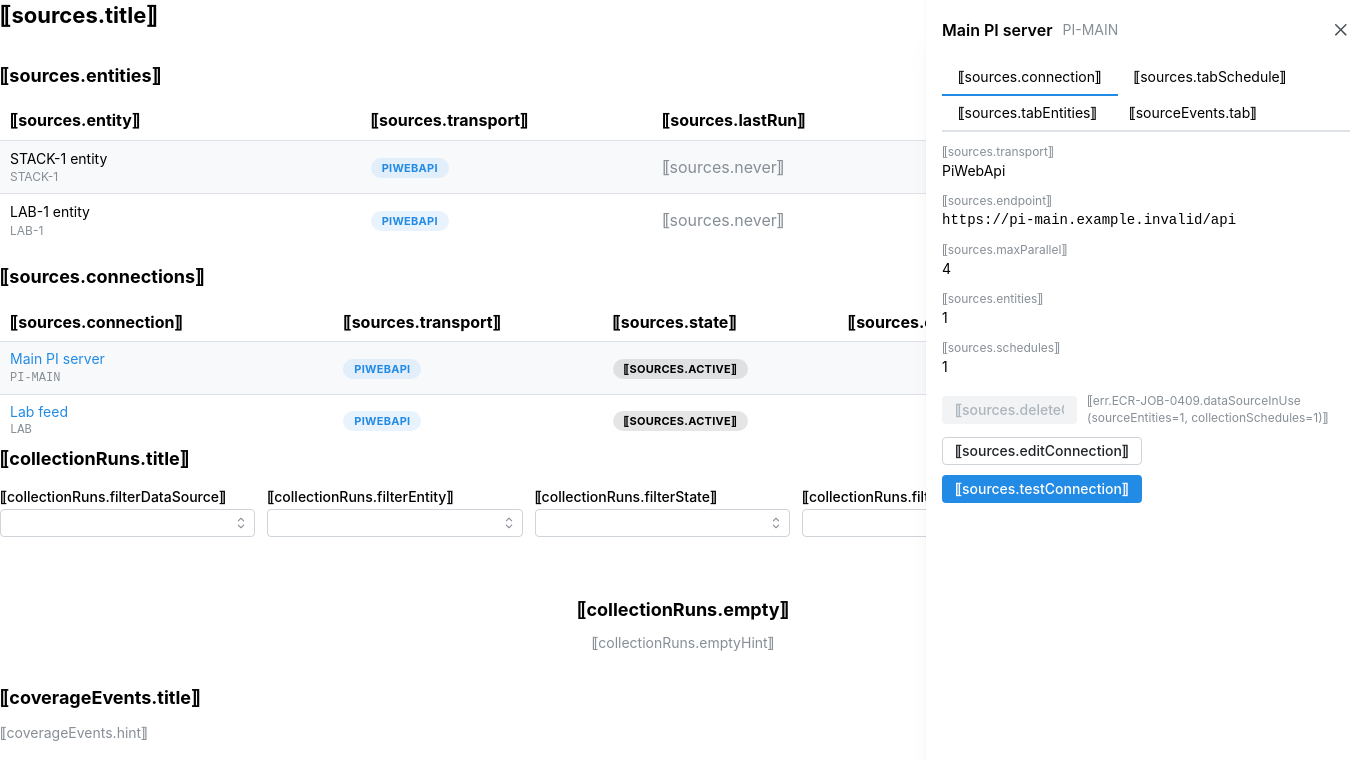
Test case: Шухляда з'єднання: вкладка Schedule › L10: відмова читання — ErrorAlert, а не «розкладів немає»
Click the tab "⟦sources.tabSchedule⟧": (1210, 78) [1118,60,1302,96]
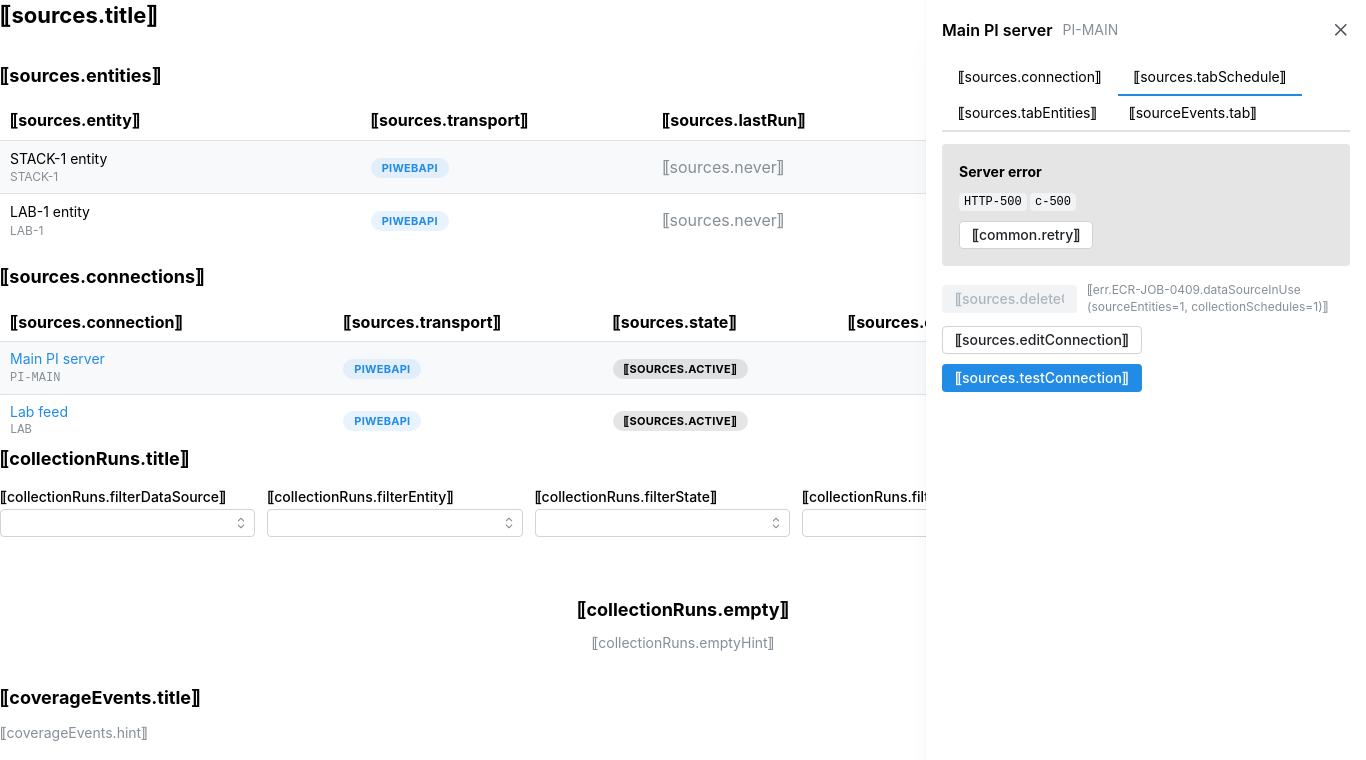
Expected: the message "Server error HTTP-500 c-500 ⟦common.retry⟧" is shown, [942,144,1350,266]
